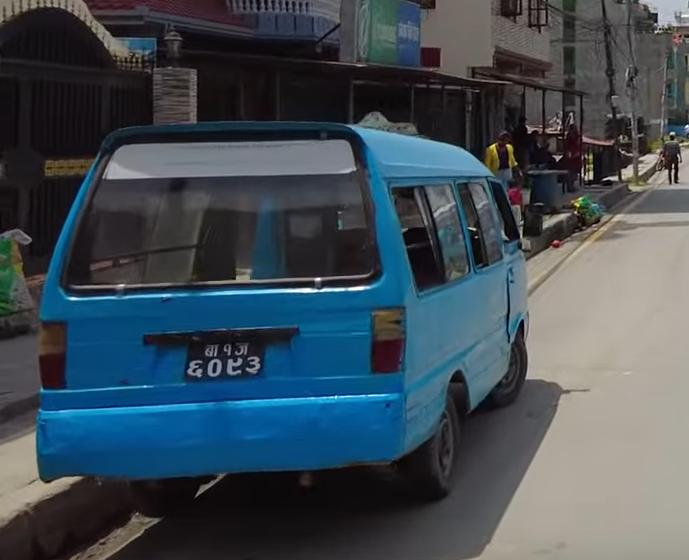van: (32, 113, 536, 508)
